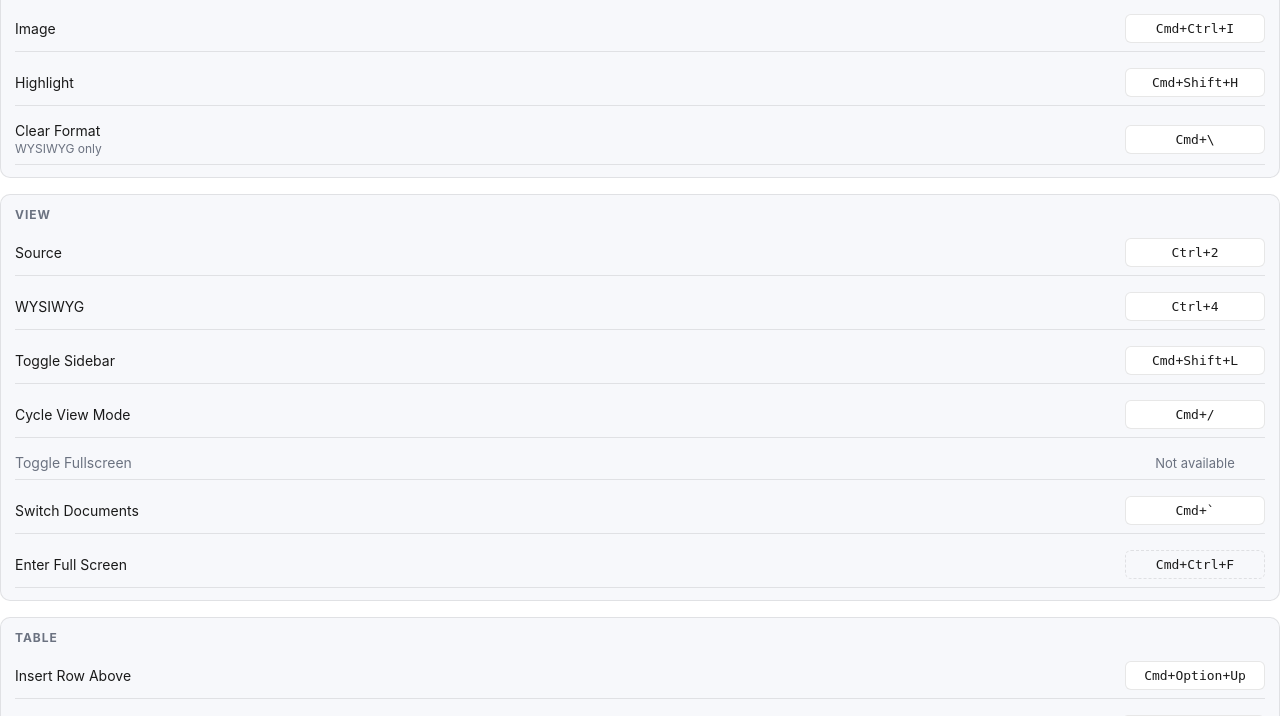
Test: M7 Reset and the recorder › e3 F6 records alone
(page scrolled)
Click the button "Cmd+Shift+L" at coordinates (1195, 360), box [1125, 346, 1265, 375]
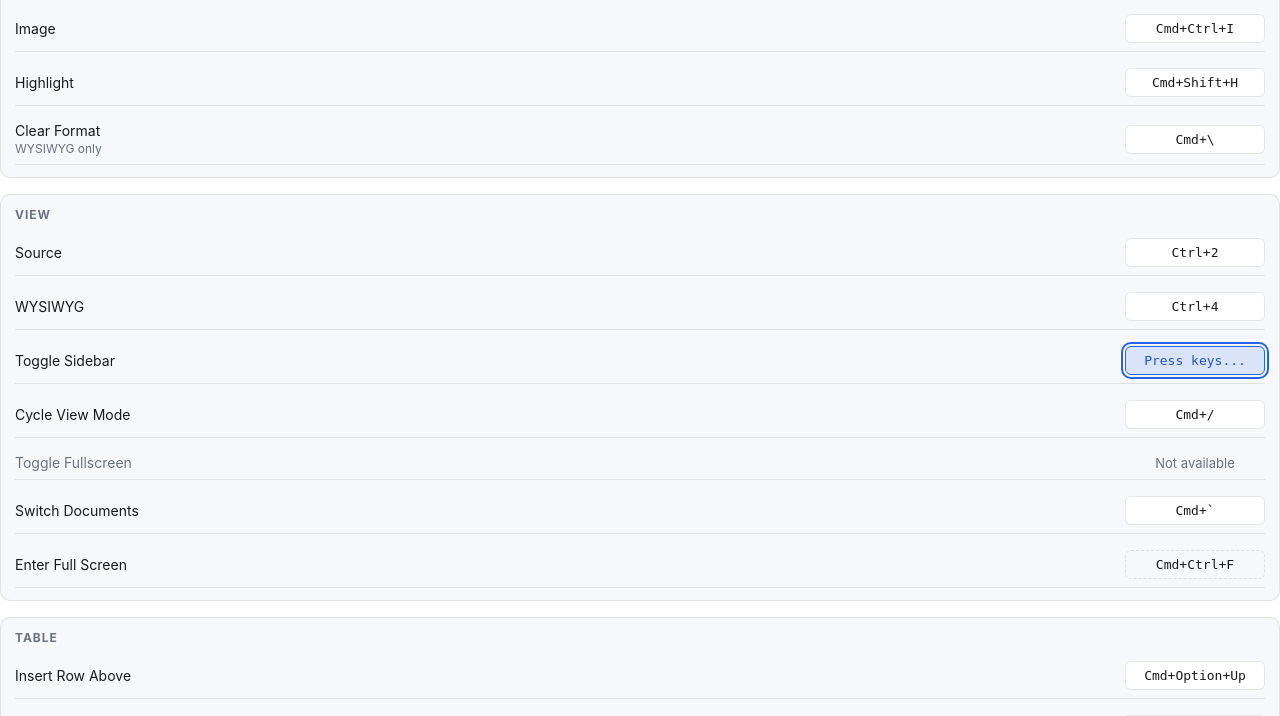
Press F6
(page scrolled)
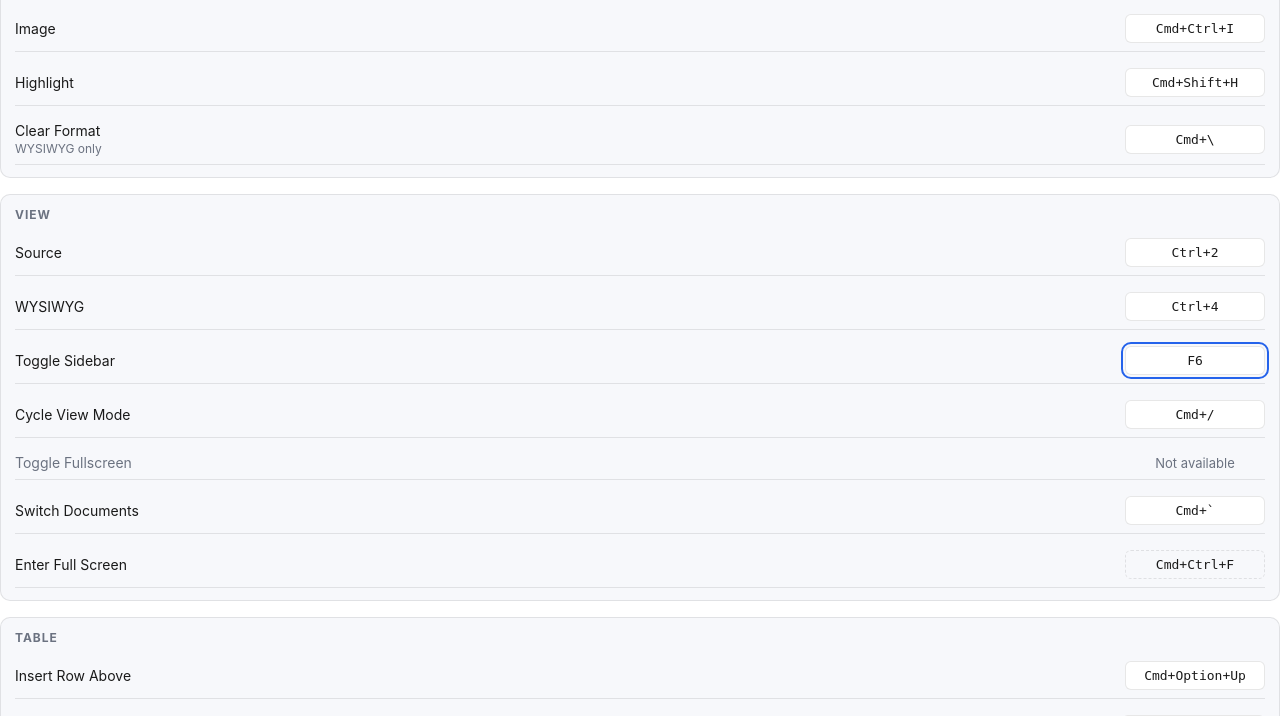
Expected: the button "F6" is shown, [1125, 346, 1265, 375]
